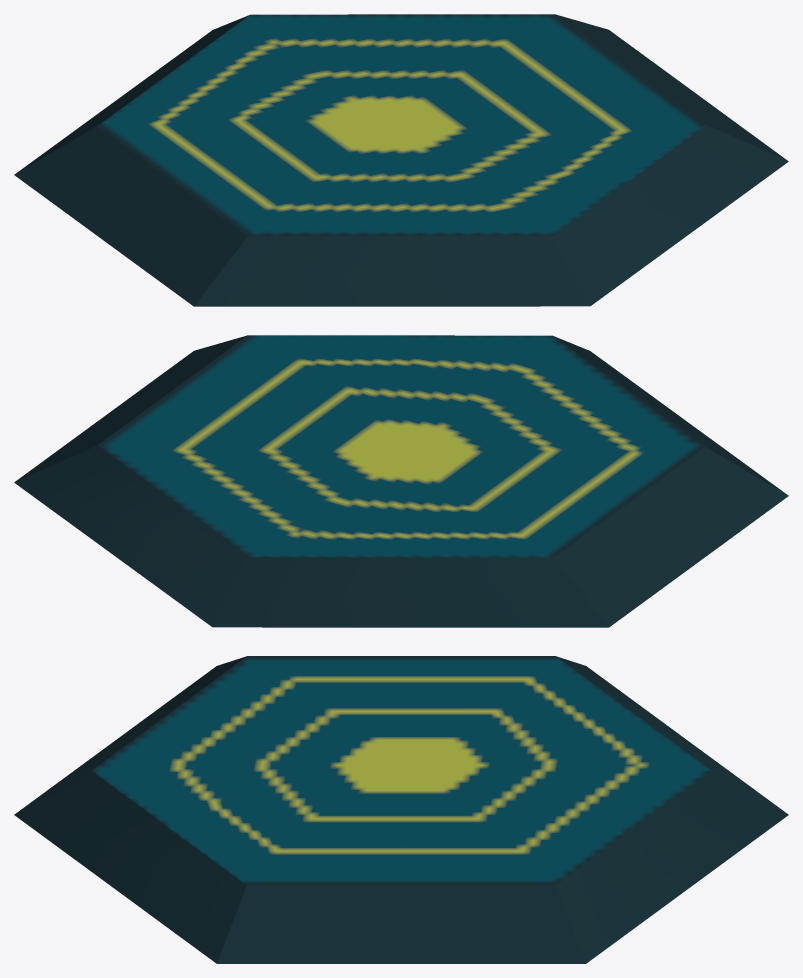
Rendered from teleporter.fbx.
3 views of the same model, one above another, from view 1: azimuth 30°, elevation 25°; view 2: azimuth 150°, elevation 25°; view 3: azimuth 270°, elevation 25° (orthographic). The views are drawn at different scales.
Parts seen in each view (by area): view 1: pCube1; view 2: pCube1; view 3: pCube1.
Boxes of the visible parts, x1,y1,x2,y2 form: pCube1: (14,14,788,306); pCube1: (14,335,788,627); pCube1: (14,656,788,963).
Size of the model in its own units: 2.85 by 0.1975 by 3.14.
1 material, 1 textured.
